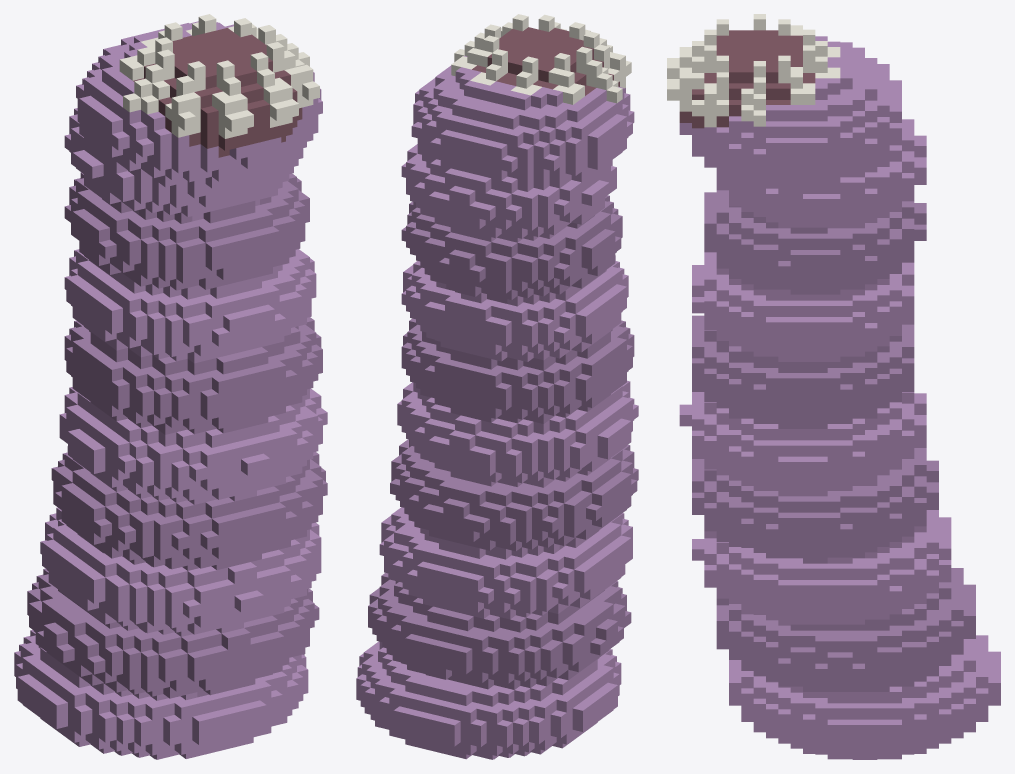
The model's file is worm.glb.
3 renders of one model, left to right at view 1: azimuth 30°, elevation 25°; view 2: azimuth 150°, elevation 25°; view 3: azimuth 270°, elevation 25°, orthographic. The views are drawn at different scales.
Visible parts, largest first — view 1: item; view 2: item; view 3: item.
Part boxes in pixels (x1,y1,x2,y2): item: [14, 14, 327, 759]; item: [356, 14, 638, 759]; item: [667, 14, 1000, 759].
Size of the model in its own units: 22 by 61 by 27.
